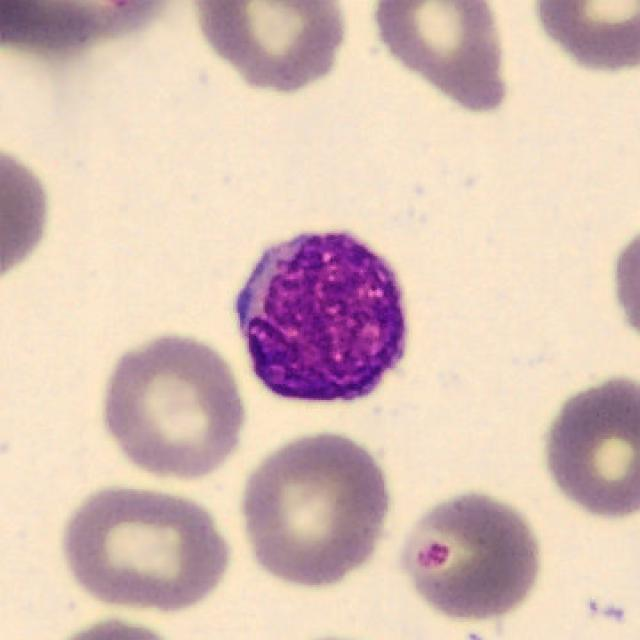Linfocito: (233, 233, 407, 400)
